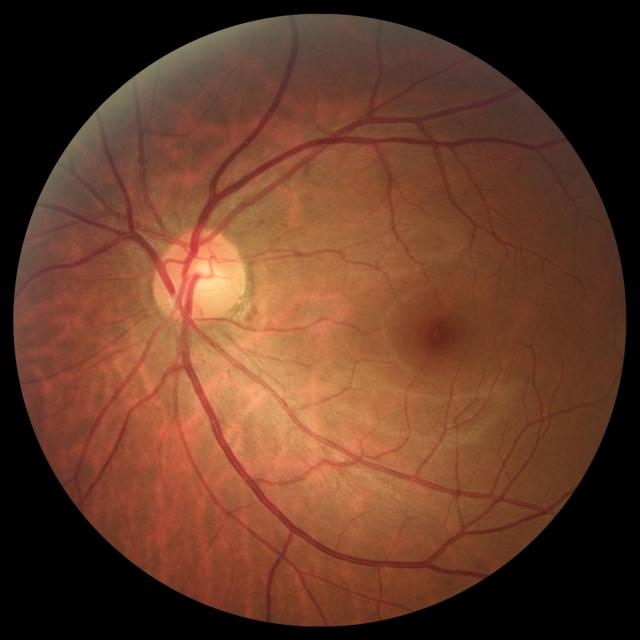OC: (186, 256, 222, 294)
OD: (152, 229, 249, 326)
